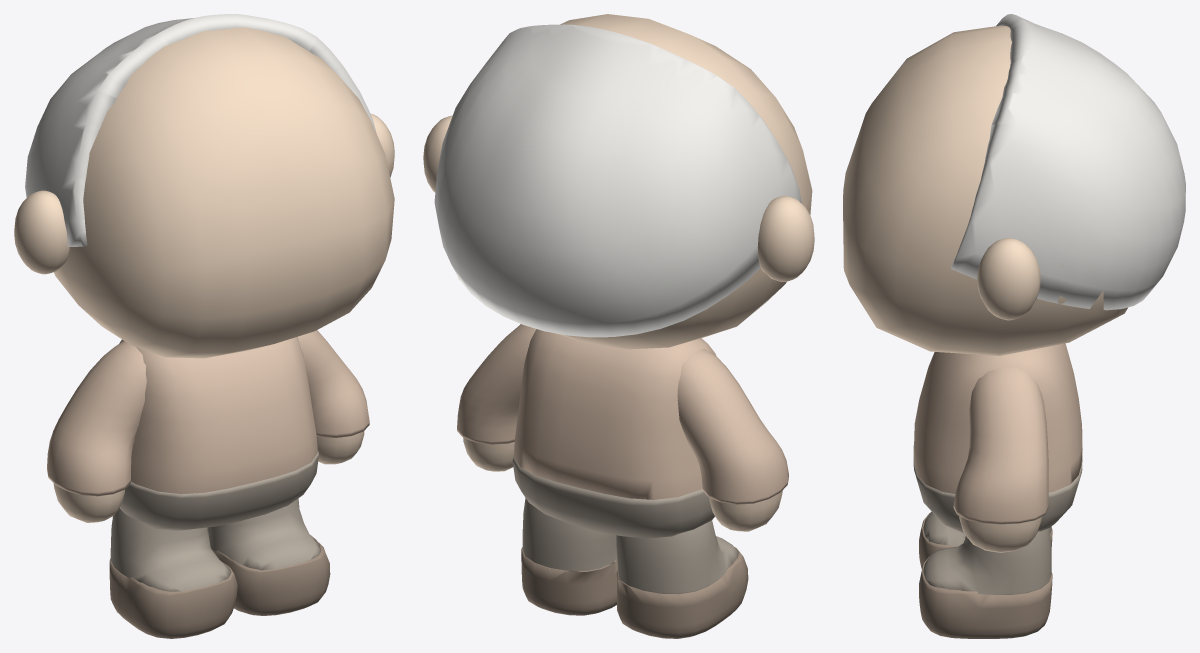
The model's file is abuelo.glb.
3 renders of one model, left to right at view 1: azimuth 30°, elevation 25°; view 2: azimuth 150°, elevation 25°; view 3: azimuth 270°, elevation 25°, orthographic. The views are drawn at different scales.
Visible parts, largest first — view 1: brazoL, camiseta_mangaL, pantalon_piernaL, pelo, zapatoL; view 2: pelo, camiseta_mangaL, brazoL, pantalon_piernaL, zapatoL; view 3: brazoL, pelo, camiseta_mangaL, pantalon_piernaL, zapatoL.
Part boxes in pixels (x1,y1,x2,y2): brazoL: [14, 27, 394, 522]; camiseta_mangaL: [47, 330, 369, 496]; pantalon_piernaL: [110, 451, 320, 591]; pelo: [25, 14, 376, 246]; zapatoL: [109, 535, 330, 638]; pelo: [434, 24, 801, 337]; camiseta_mangaL: [457, 324, 788, 504]; brazoL: [423, 14, 814, 531]; pantalon_piernaL: [512, 455, 738, 594]; zapatoL: [521, 547, 748, 638]; brazoL: [843, 25, 1127, 552]; pelo: [951, 14, 1185, 310]; camiseta_mangaL: [914, 343, 1082, 524]; pantalon_piernaL: [913, 441, 1082, 594]; zapatoL: [919, 513, 1052, 638].
Size of the model in its own units: 2.93 by 4.32 by 2.36.
